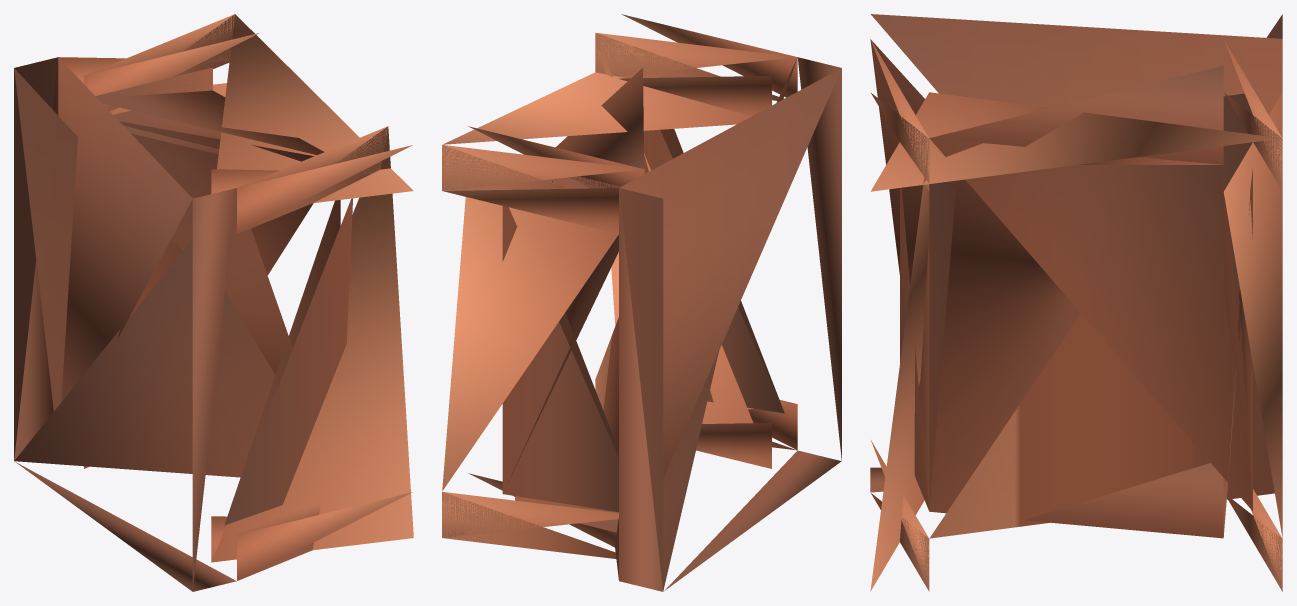
File: k_pirate_crate-GRwzSWV-.glb
The picture shows the model from 3 angles, left to right: view 1: azimuth 30°, elevation 25°; view 2: azimuth 150°, elevation 25°; view 3: azimuth 270°, elevation 25°; orthographic projection. The views are drawn at different scales.
Visible parts, largest first — view 1: crate; view 2: crate; view 3: crate.
Boxes of the visible parts, x1,y1,x2,y2 form: crate: [14, 14, 413, 591]; crate: [442, 14, 841, 591]; crate: [870, 14, 1282, 591].
Bounding box in the file's own units: 0.77 × 1.31 × 1.08.
Materials: 1 (1 with a texture image).
